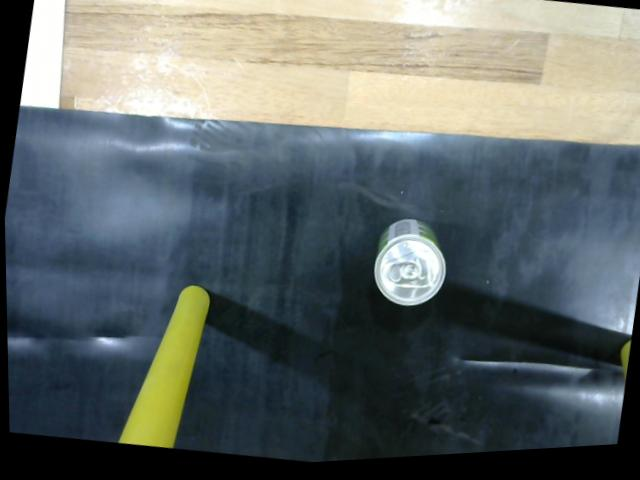can: (364, 213, 465, 316)
